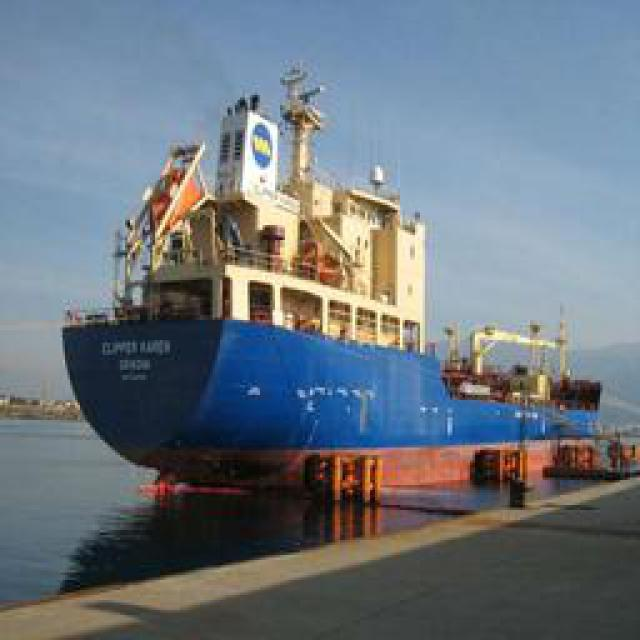Ship: (66, 55, 619, 540)
